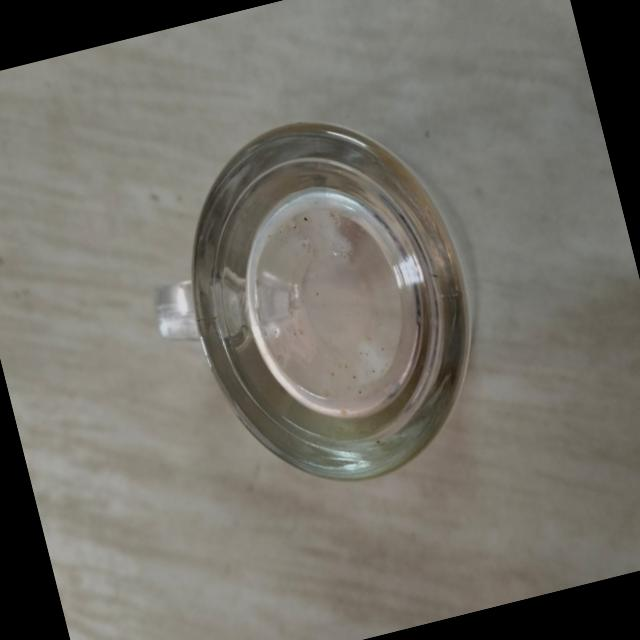glass-VX4N: (115, 86, 526, 528)
